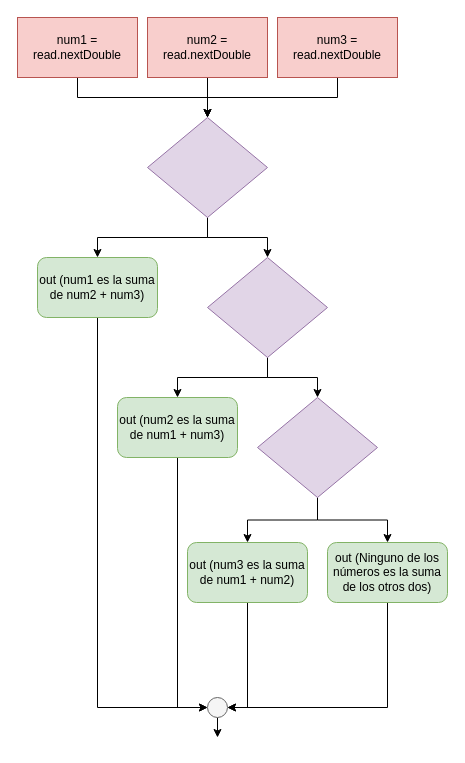
Image size: 465x763. Some labels were removed from this diagram. The shapes that lost their labels are listed below. From the top down, each one's box as (x1, y1, x2, y2) in pixels, then its label:
(146, 116, 268, 218): if num1 = num2 + num3
(206, 256, 328, 358): if num2 = num1 + num3
(256, 396, 378, 498): if num3 = num1 + num2
